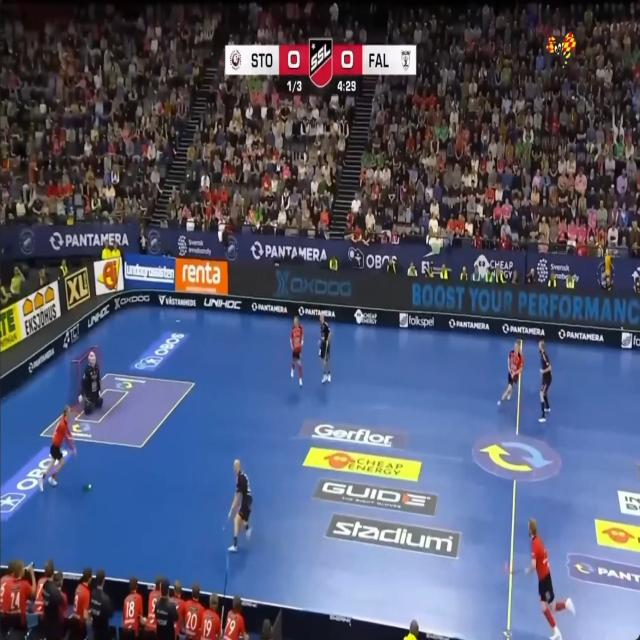Balls: (83, 483, 92, 491)
player: (525, 519, 574, 639), (39, 406, 76, 490), (228, 459, 252, 552), (498, 341, 523, 404), (78, 352, 103, 414), (223, 596, 248, 639), (538, 341, 551, 422), (290, 315, 303, 385), (319, 314, 331, 382)
